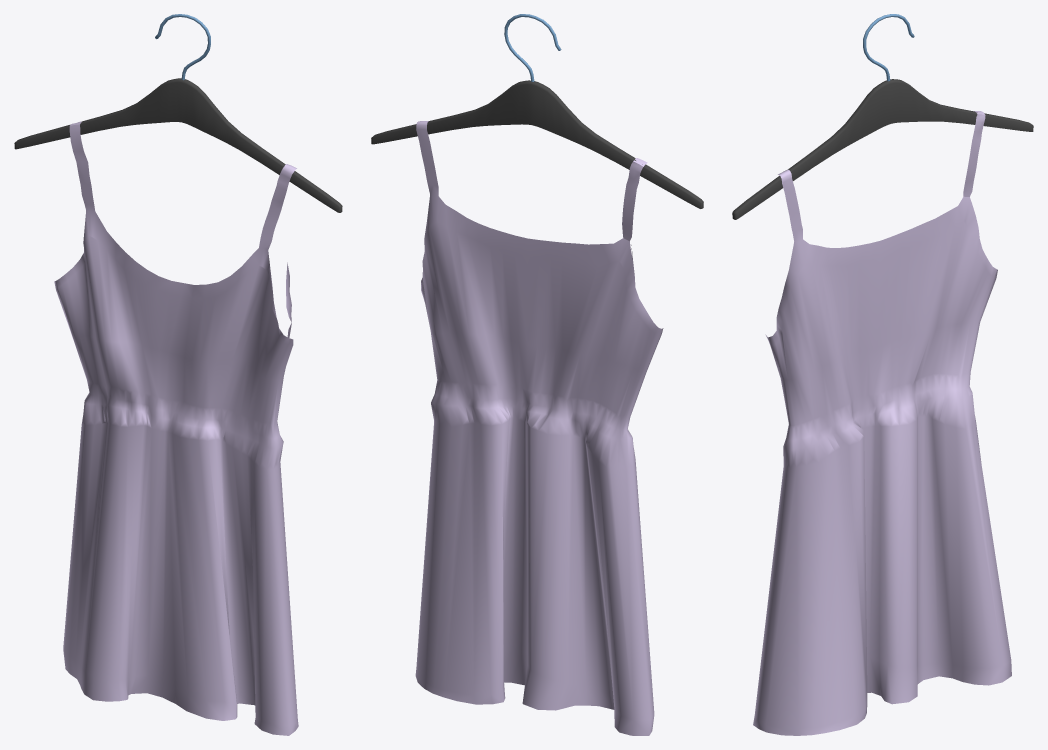
3 renders of one model, left to right at view 1: azimuth 30°, elevation 25°; view 2: azimuth 210°, elevation 25°; view 3: azimuth 270°, elevation 25°, orthographic.
Visible parts, largest first — view 1: dress001, Group005; view 2: dress001, Group005; view 3: dress001, Group005.
Boxes of the visible parts, x1,y1,x2,y2 form: dress001: [54, 121, 298, 735]; Group005: [14, 14, 342, 212]; dress001: [415, 121, 663, 735]; Group005: [371, 14, 703, 208]; dress001: [753, 111, 1011, 735]; Group005: [732, 14, 1033, 219].
Bounding box in the file's own units: 22.14 × 79.3 × 31.29.
